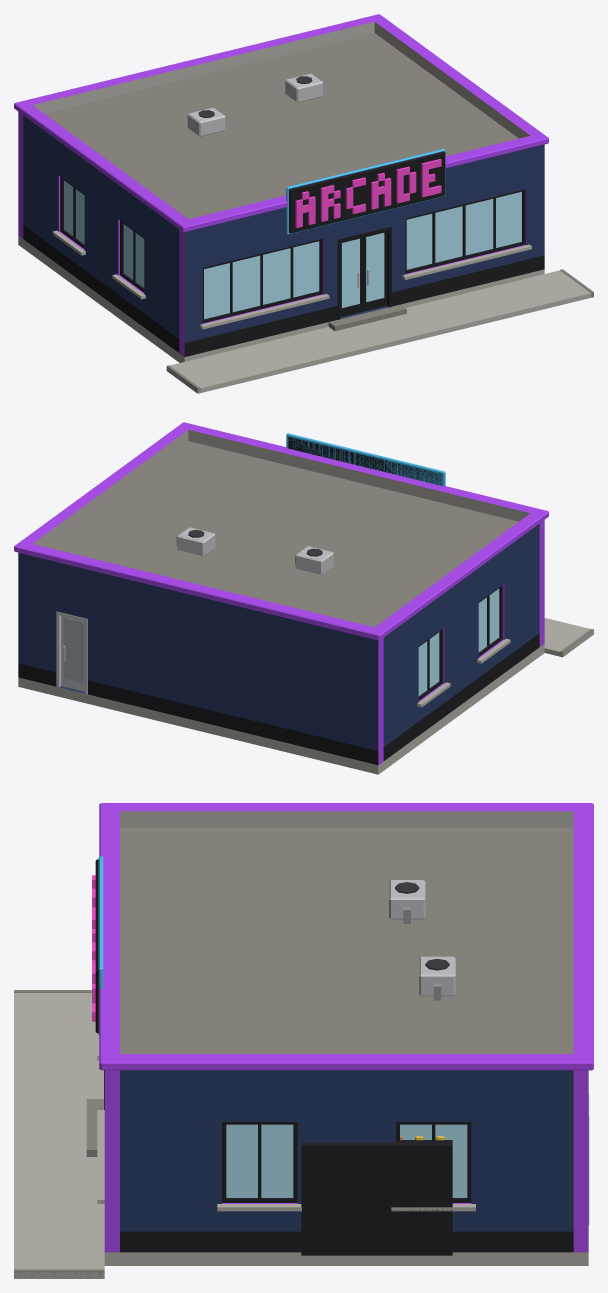
Rendered from ArcadeHall.fbx.
3 renders of one model, top to bottom at view 1: azimuth 30°, elevation 25°; view 2: azimuth 150°, elevation 25°; view 3: azimuth 270°, elevation 25°, orthographic. The views are drawn at different scales.
Visible parts, largest first — view 1: ArcadeHall, ArcadeHall_Roof, ArcadeHall_Glass, ArcadeHall_Sign, ArcadeHall_DoorR, ArcadeHall_DoorL; view 2: ArcadeHall, ArcadeHall_Roof, ArcadeHall_Sign, ArcadeHall_Glass, ArcadeHall_BackDoor; view 3: ArcadeHall, ArcadeHall_Roof, ArcadeHall_Prizes, ArcadeHall_Glass, ArcadeHall_Sign.
Boxes of the visible parts, box(x1,y1,x2,y2) form: ArcadeHall: box(14, 14, 593, 393); ArcadeHall_Roof: box(44, 33, 518, 219); ArcadeHall_Glass: box(64, 180, 521, 319); ArcadeHall_Sign: box(286, 149, 445, 234); ArcadeHall_DoorR: box(362, 231, 386, 311); ArcadeHall_DoorL: box(340, 237, 362, 316); ArcadeHall: box(14, 422, 593, 774); ArcadeHall_Roof: box(44, 441, 518, 627); ArcadeHall_Sign: box(286, 433, 445, 486); ArcadeHall_Glass: box(418, 588, 499, 695); ArcadeHall_BackDoor: box(61, 615, 84, 691); ArcadeHall: box(14, 803, 593, 1278); ArcadeHall_Roof: box(120, 827, 573, 1053); ArcadeHall_Prizes: box(301, 1136, 452, 1255); ArcadeHall_Glass: box(226, 1124, 467, 1197); ArcadeHall_Sign: box(92, 856, 103, 1035).
Bounding box in the file's own units: 44 × 16.5 × 38.35.
Materials: 1 (1 with a texture image).
